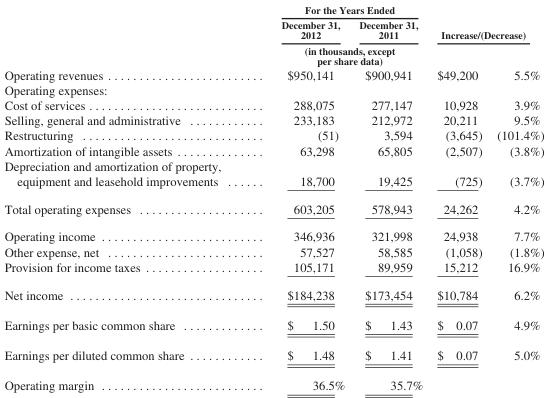table: (3, 3, 543, 392)
table column: (3, 3, 250, 392), (250, 3, 351, 392), (351, 3, 429, 392), (429, 3, 488, 392), (488, 3, 543, 392)
table column header: (3, 3, 543, 82)
table projected row header: (3, 82, 543, 97)
table row: (3, 157, 543, 194), (3, 309, 543, 339), (3, 339, 543, 369), (3, 280, 543, 309), (3, 194, 543, 222), (3, 17, 543, 42), (3, 42, 543, 66), (3, 369, 543, 392), (3, 258, 543, 280), (3, 222, 543, 243), (3, 66, 543, 82), (3, 82, 543, 97), (3, 97, 543, 112), (3, 112, 543, 127), (3, 127, 543, 142), (3, 142, 543, 157), (3, 243, 543, 258), (3, 3, 543, 17)
table spanning cell: (3, 3, 250, 82), (429, 3, 543, 42), (250, 42, 429, 66), (250, 3, 429, 17), (429, 42, 488, 82), (488, 42, 543, 82)
